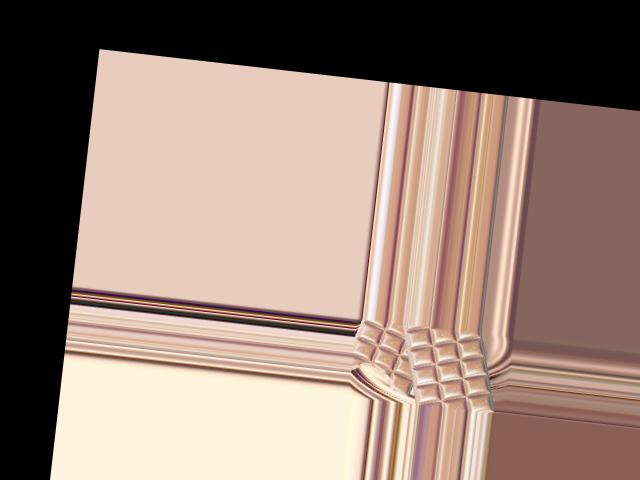chocolate: (393, 322, 504, 412)
